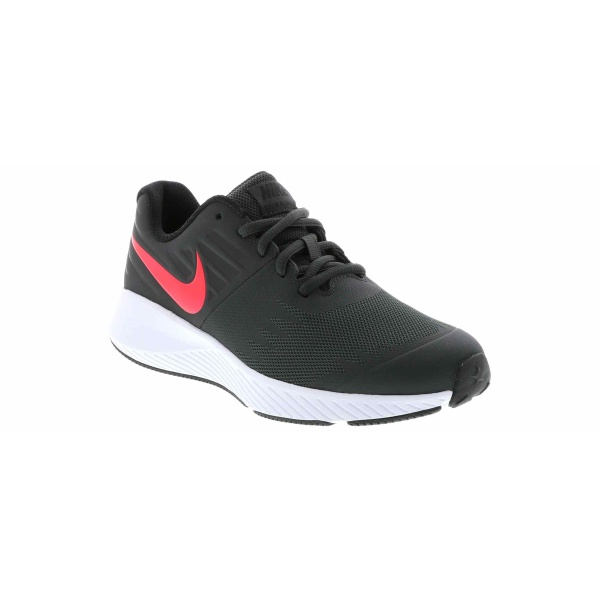nike: (133, 240, 218, 320)
